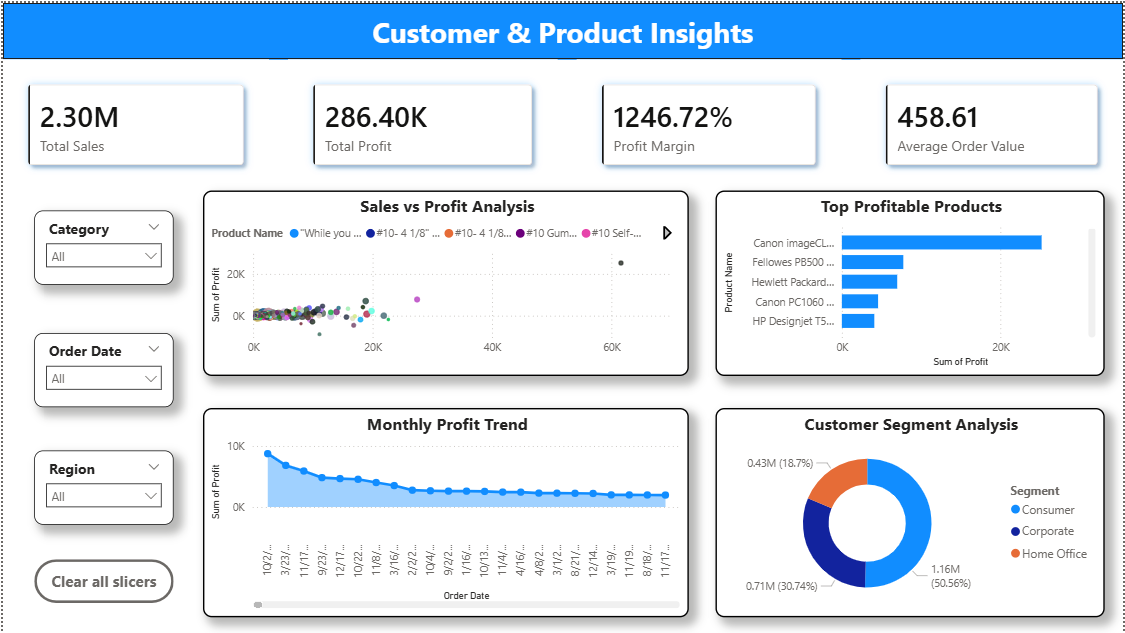

What the dashboard file says about the page in this screenshot:
{"tool":"powerbi","page":{"name":"Customer & Product Insights","canvas":[1280,720],"ordinal":2},"visuals":[{"type":"shape","box":[0,0,1279.7,64.9],"z":0},{"type":"cardVisual","fields":{"Data":["Superstore.Total Sales"]},"box":[0,64.9,304.1,150],"z":1000},{"type":"cardVisual","fields":{"Data":["Superstore.Total Profit"]},"box":[325.7,64.9,308.1,150],"z":2000},{"type":"cardVisual","fields":{"Data":["Superstore.Profit Margin"]},"box":[655.4,64.9,302.7,150],"z":3000},{"type":"cardVisual","fields":{"Data":["Superstore.Average Order Value"]},"box":[979.7,64.9,300,150],"z":4000},{"type":"scatterChart","title":"Sales vs Profit Analysis","fields":{"X":["Sum(Superstore.Sales)"],"Y":["Sum(Superstore.Profit)"],"Size":["Sum(Superstore.Quantity)"],"Series":["Superstore.Product Name"]},"box":[228.4,214.9,555.4,212.2],"z":5000},{"type":"barChart","title":"Top Profitable Products","fields":{"Category":["Superstore.Product Name"],"Y":["Sum(Superstore.Profit)"]},"box":[814.9,214.9,444.6,212.2],"z":6000},{"type":"donutChart","title":"Customer Segment Analysis","fields":{"Category":["Superstore.Segment"],"Y":["Sum(Superstore.Sales)"]},"box":[814.9,462.2,444.6,239.2],"z":7000},{"type":"lineChart","title":"Monthly Profit Trend","fields":{"Category":["Superstore.Order Date"],"Y":["Sum(Superstore.Profit)"]},"box":[228.4,462.2,555.4,239.2],"z":8000},{"type":"slicer","fields":{"Values":["Superstore.Category"]},"box":[35.1,236.5,159.5,85.1],"z":9000},{"type":"slicer","fields":{"Values":["Superstore.Region"]},"box":[35.1,510.8,159.5,85.1],"z":10000},{"type":"slicer","fields":{"Values":["Superstore.Order Date"]},"box":[35.1,377,159.5,85.1],"z":11000},{"type":"actionButton","box":[35.1,635.1,159.5,50],"z":12000}]}

Visuals, with their boxes in screenshot pixels (x1, y1, x2, y2), scaled from the page's 1280x720 canvas onto the 1125x633 screenshot:
shape: bbox=(0, 0, 1124, 57)
cardVisual - Superstore.Total Sales: bbox=(0, 57, 267, 189)
cardVisual - Superstore.Total Profit: bbox=(286, 57, 557, 189)
cardVisual - Superstore.Profit Margin: bbox=(576, 57, 842, 189)
cardVisual - Superstore.Average Order Value: bbox=(861, 57, 1124, 189)
"Sales vs Profit Analysis" scatterChart: bbox=(201, 189, 689, 375)
"Top Profitable Products" barChart: bbox=(716, 189, 1107, 375)
"Customer Segment Analysis" donutChart: bbox=(716, 406, 1107, 617)
"Monthly Profit Trend" lineChart: bbox=(201, 406, 689, 617)
slicer - Superstore.Category: bbox=(31, 208, 171, 283)
slicer - Superstore.Region: bbox=(31, 449, 171, 524)
slicer - Superstore.Order Date: bbox=(31, 331, 171, 406)
actionButton: bbox=(31, 558, 171, 602)
